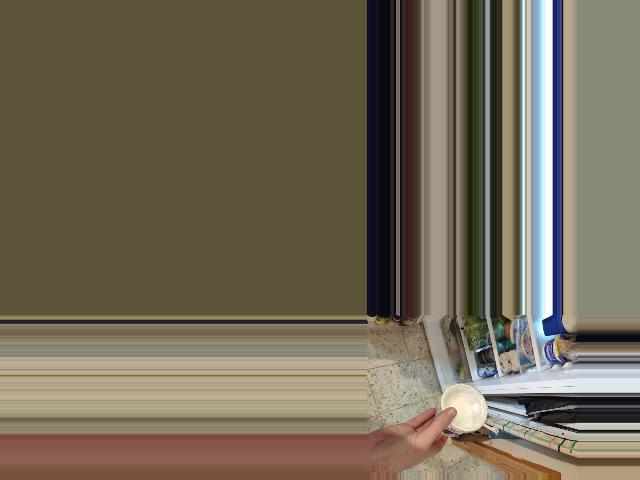cotage: (430, 383, 489, 444)
